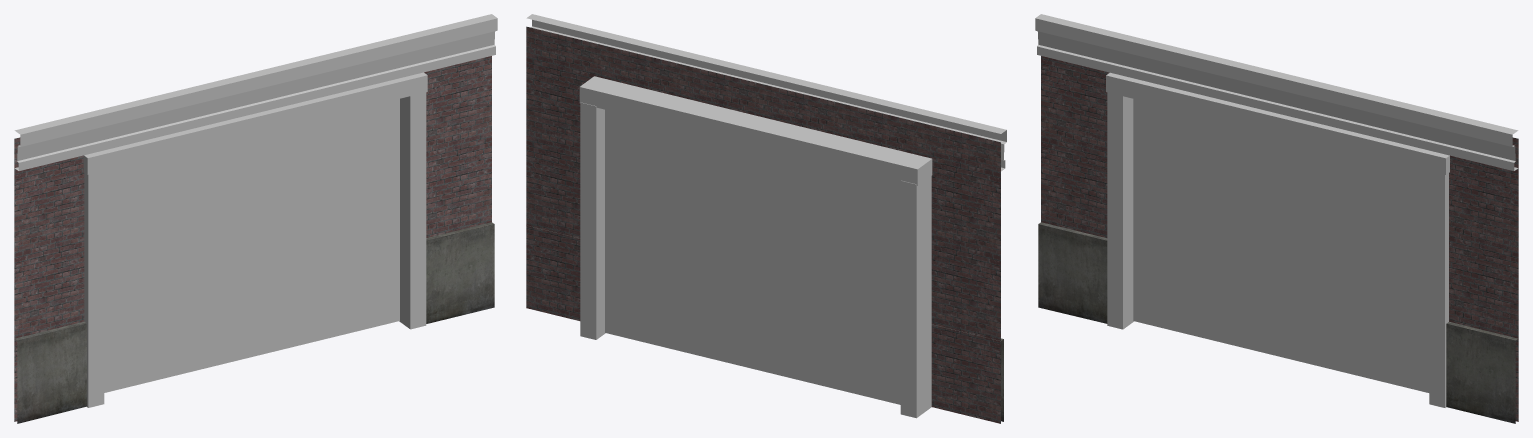
File: Wall_C_Brick_DoorRoll_B_6x.FBX
3 renders of one model, left to right at view 1: azimuth 30°, elevation 25°; view 2: azimuth 150°, elevation 25°; view 3: azimuth 330°, elevation 25°, orthographic.
Visible parts, largest first — view 1: Wall_C_Brick_DoorRoll_B_6x; view 2: Wall_C_Brick_DoorRoll_B_6x; view 3: Wall_C_Brick_DoorRoll_B_6x.
Boxes of the visible parts, bbox=[...] form: Wall_C_Brick_DoorRoll_B_6x: bbox=[14, 14, 497, 423]; Wall_C_Brick_DoorRoll_B_6x: bbox=[526, 14, 1006, 423]; Wall_C_Brick_DoorRoll_B_6x: bbox=[1035, 14, 1518, 423].
Size of the model in its own units: 600 by 350 by 45.4.
